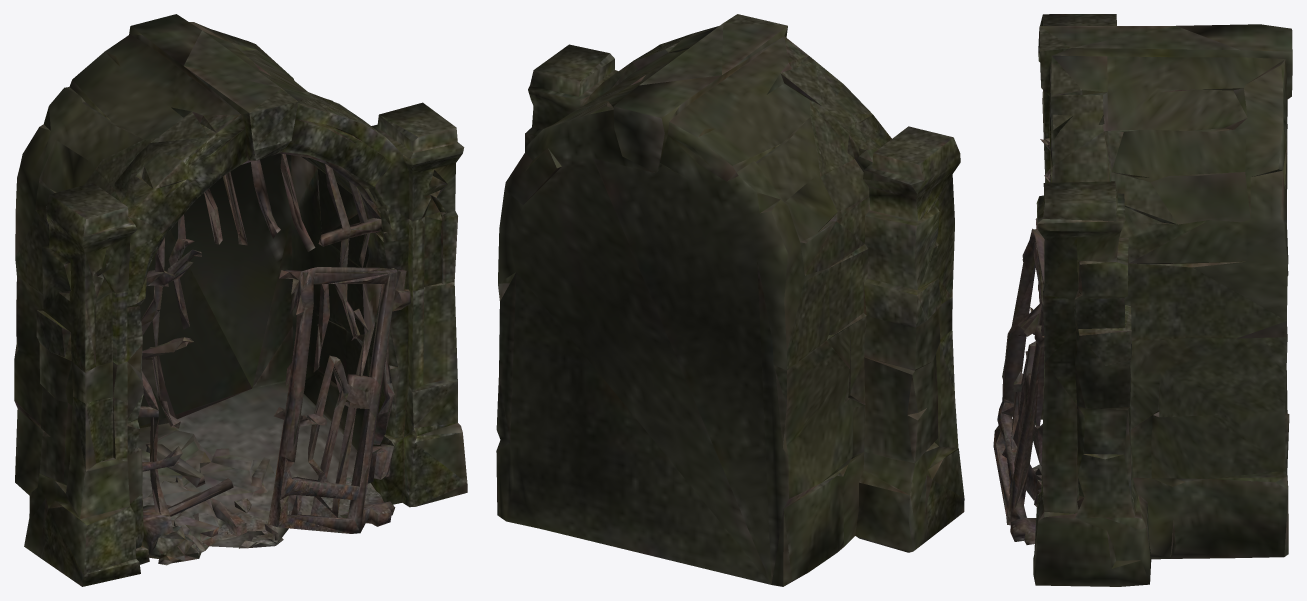
File: prison-cell-busted.glb
3 views of the same model, side by side, from view 1: azimuth 30°, elevation 25°; view 2: azimuth 150°, elevation 25°; view 3: azimuth 270°, elevation 25° (orthographic). The views are drawn at different scales.
Bounding box in the file's own units: 1.9 × 2 × 1.2.
1 material, 1 textured.
